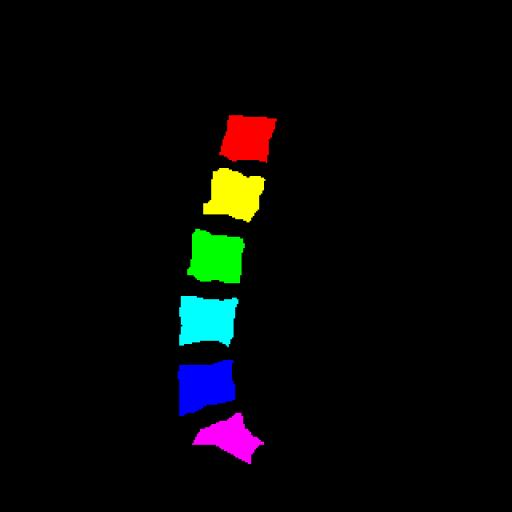L1: (219, 115, 277, 162)
L2: (203, 168, 265, 222)
L3: (187, 229, 245, 283)
L4: (179, 296, 238, 346)
L5: (178, 360, 235, 416)
S1: (193, 413, 264, 464)
